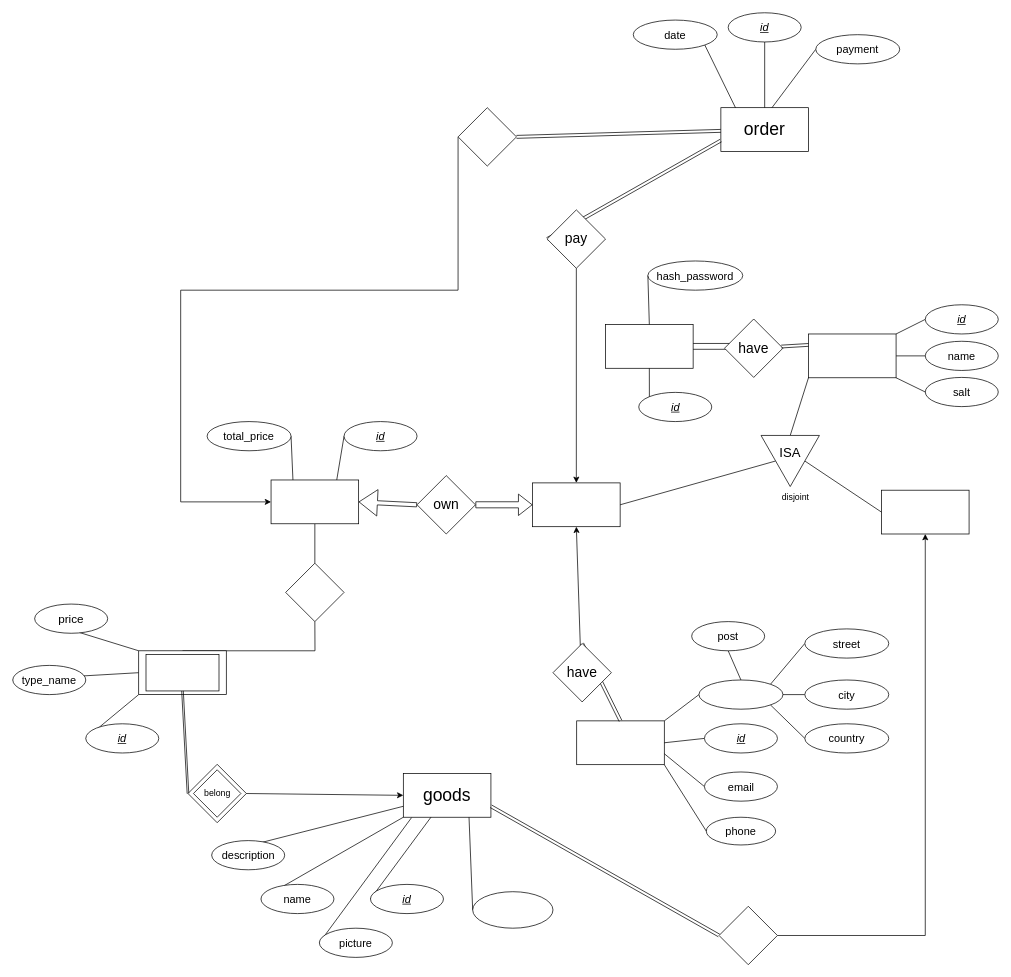
This 1011x977 diagram has some shape labels left out. The box of each missing label's shape, as (x1, y1, x2, y2) in pixels:
address: (698, 679, 783, 709)
admin: (881, 489, 969, 534)
buyer: (532, 482, 620, 527)
c art: (270, 479, 359, 524)
contain: (285, 562, 344, 622)
deal: (457, 107, 516, 166)
info: (576, 720, 664, 765)
infomation_pic: (472, 891, 553, 928)
security: (605, 324, 693, 368)
sell: (718, 906, 777, 965)
type: (145, 654, 219, 691)
user: (808, 333, 896, 378)
